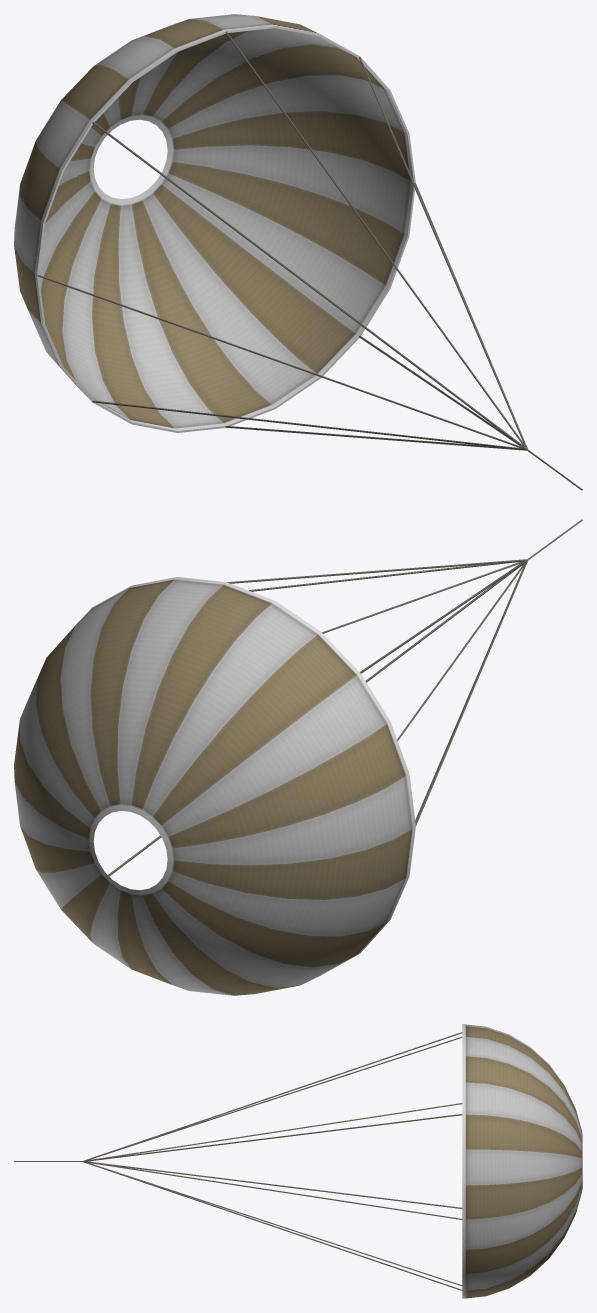
Rendered from Auriga_Parachute_1_Canopy.obj.
3 views of the same model, one above another, from view 1: azimuth 30°, elevation 25°; view 2: azimuth 150°, elevation 25°; view 3: azimuth 270°, elevation 25° (orthographic). The views are drawn at different scales.
Visible parts, largest first — view 1: Auriga_Parachute_1_Canopy; view 2: Auriga_Parachute_1_Canopy; view 3: Auriga_Parachute_1_Canopy.
Boxes of the visible parts, x1,y1,x2,y2 form: Auriga_Parachute_1_Canopy: [14, 14, 582, 490]; Auriga_Parachute_1_Canopy: [14, 519, 582, 995]; Auriga_Parachute_1_Canopy: [14, 1024, 582, 1298].
Bounding box in the file's own units: 8 × 8 × 16.5.
